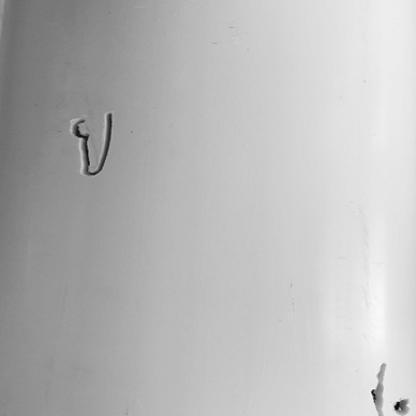fengxi: (63, 110, 122, 178)
kongdong: (369, 355, 392, 416), (385, 391, 413, 416)
